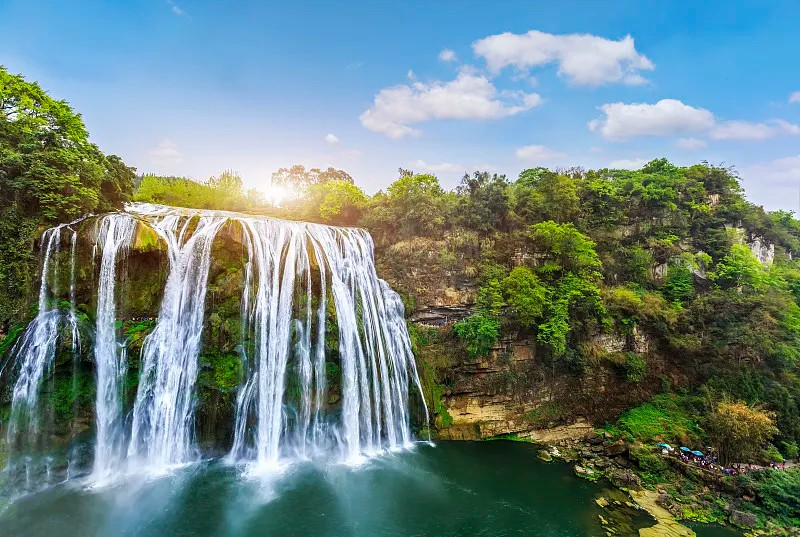Huangguoshu: (14, 202, 433, 490)
